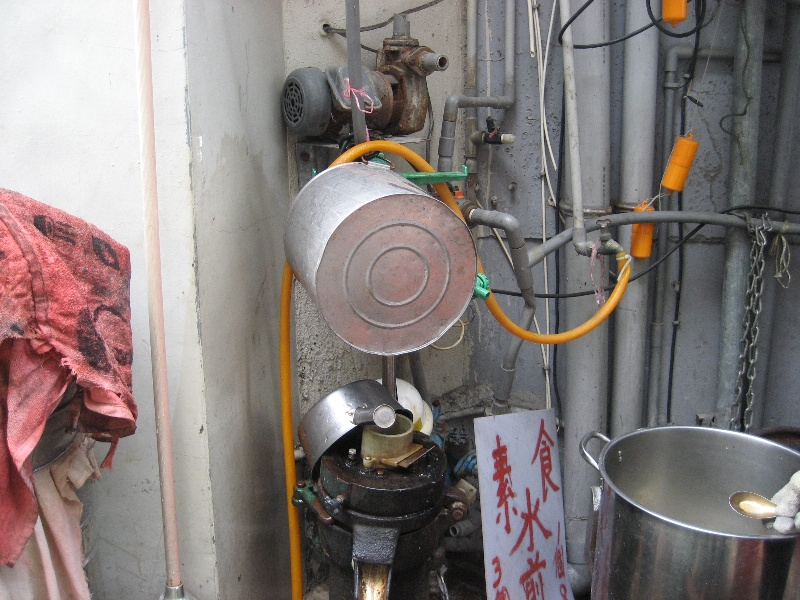bowl: (296, 378, 413, 484)
bucket: (578, 423, 800, 598), (283, 160, 479, 357)
